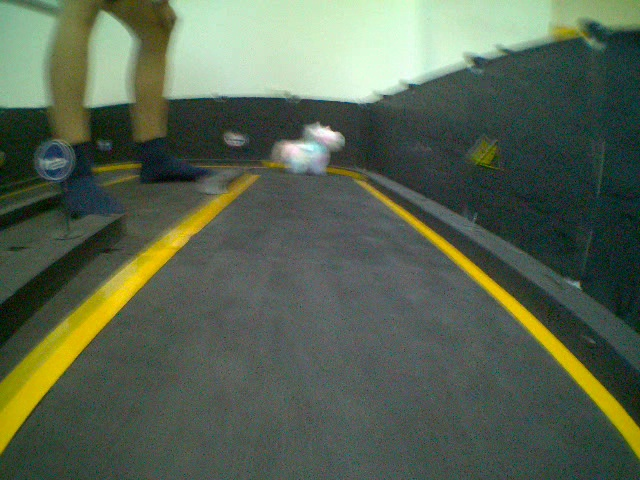unicorn: (272, 124, 345, 179)
